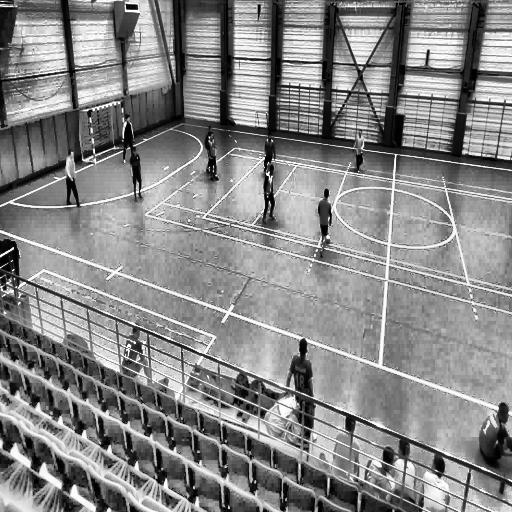ball: (325, 234, 332, 245)
player: (261, 157, 276, 224), (65, 148, 82, 207), (318, 187, 332, 256), (120, 111, 134, 166), (130, 145, 143, 200), (206, 131, 218, 182), (263, 130, 276, 175), (352, 128, 364, 174), (204, 124, 214, 176)
